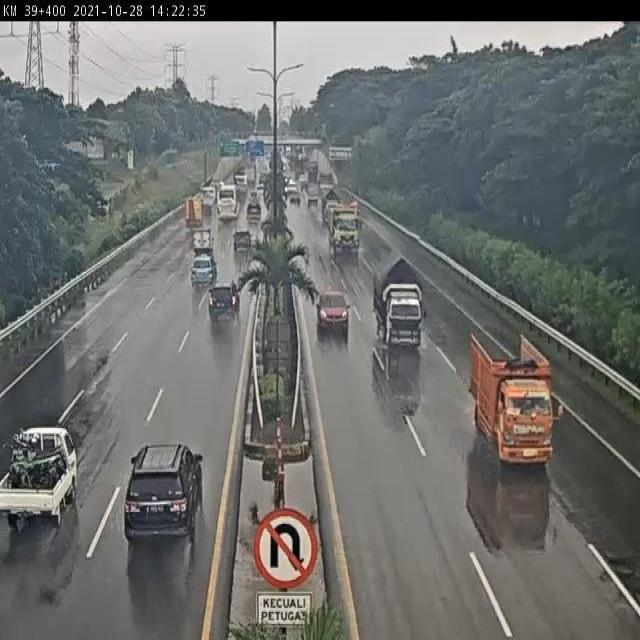car: (0, 426, 82, 534), (121, 441, 200, 547), (315, 285, 350, 336), (208, 279, 240, 316), (191, 249, 218, 283), (232, 227, 253, 250)
small truck: (184, 195, 204, 224)
truck-l-: (327, 202, 364, 262)
truck-s-: (473, 336, 553, 468), (372, 255, 424, 349)
